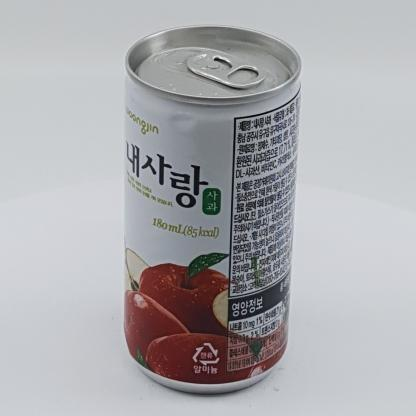-------180ML: (123, 24, 302, 394)
